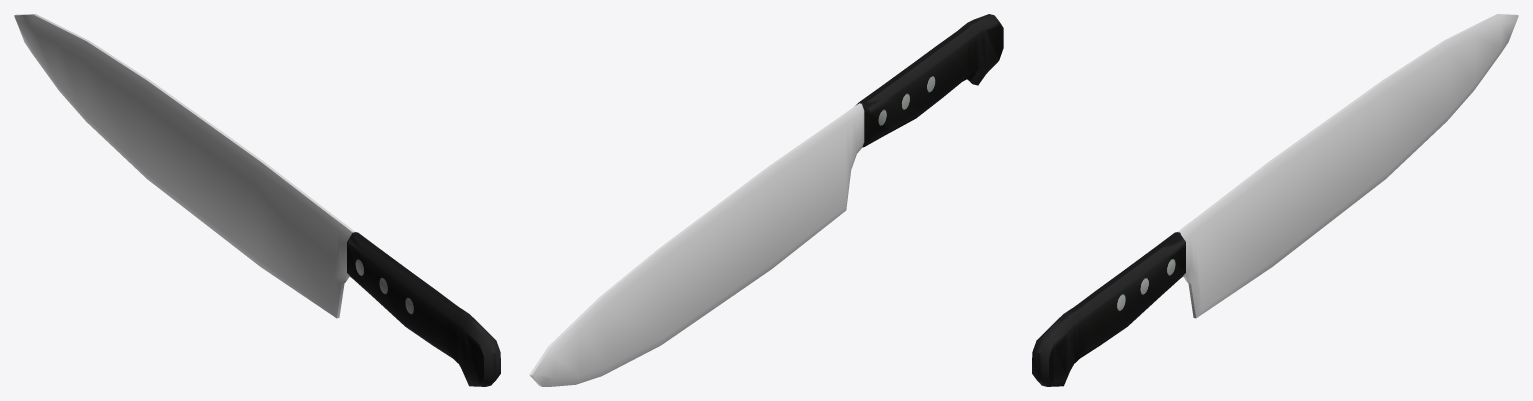
Rendered from Cook Knife.fbx.
3 renders of one model, left to right at view 1: azimuth 30°, elevation 25°; view 2: azimuth 150°, elevation 25°; view 3: azimuth 330°, elevation 25°, orthographic. The views are drawn at different scales.
Visible parts, largest first — view 1: model; view 2: model; view 3: model.
Part boxes in pixels (left/top/right/bottom): model: left=14, top=14, right=500, bottom=386; model: left=529, top=14, right=1003, bottom=386; model: left=1032, top=14, right=1518, bottom=386.
Size of the model in its own units: 19.59 by 117 by 962.
